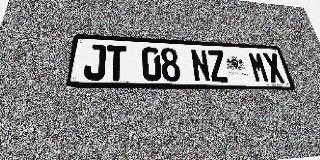0: (141, 47, 162, 81)
8: (160, 47, 181, 81)
J: (83, 44, 106, 80)
M: (247, 52, 271, 83)
N: (190, 49, 212, 82)
T: (105, 45, 126, 81)
X: (262, 53, 286, 83)
Z: (206, 50, 229, 82)
